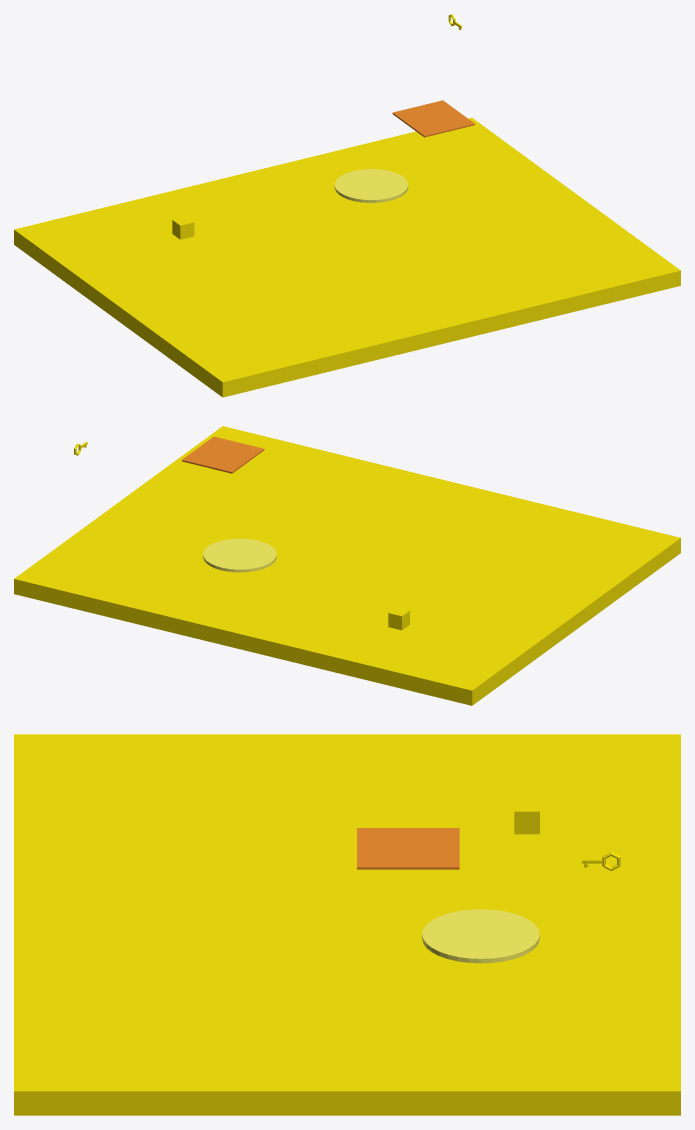
Rendered from frodomap.gltf.
3 views of the same model, one above another, from view 1: azimuth 30°, elevation 25°; view 2: azimuth 150°, elevation 25°; view 3: azimuth 270°, elevation 25° (orthographic). The views are drawn at different scales.
Visible parts, largest first — view 1: Floor, Trampoline, MovingPlatform; view 2: Floor, Trampoline, MovingPlatform, metarig; view 3: Floor, Trampoline, MovingPlatform, metarig.
Part boxes in pixels (bbox=[...]): Floor: bbox=[14, 118, 680, 397]; Trampoline: bbox=[334, 169, 408, 202]; MovingPlatform: bbox=[392, 100, 474, 137]; Floor: bbox=[14, 426, 680, 705]; Trampoline: bbox=[203, 538, 276, 572]; MovingPlatform: bbox=[182, 436, 264, 473]; metarig: bbox=[388, 607, 409, 630]; Floor: bbox=[14, 734, 680, 1115]; Trampoline: bbox=[422, 909, 539, 963]; MovingPlatform: bbox=[357, 828, 459, 869]; metarig: bbox=[514, 800, 539, 834].
Bounding box in the file's own units: 13.57 × 4.1 × 10.71.
5 materials, 5 textured.
